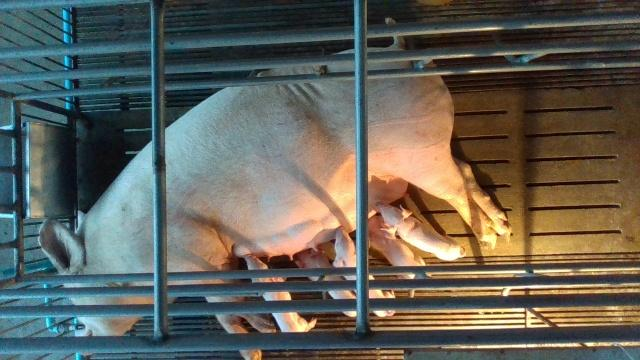piglet: (333, 225, 398, 318), (245, 254, 316, 332), (378, 202, 468, 262), (295, 250, 358, 319), (367, 217, 425, 279)
sow-sleep-lactate: (38, 18, 507, 360)
